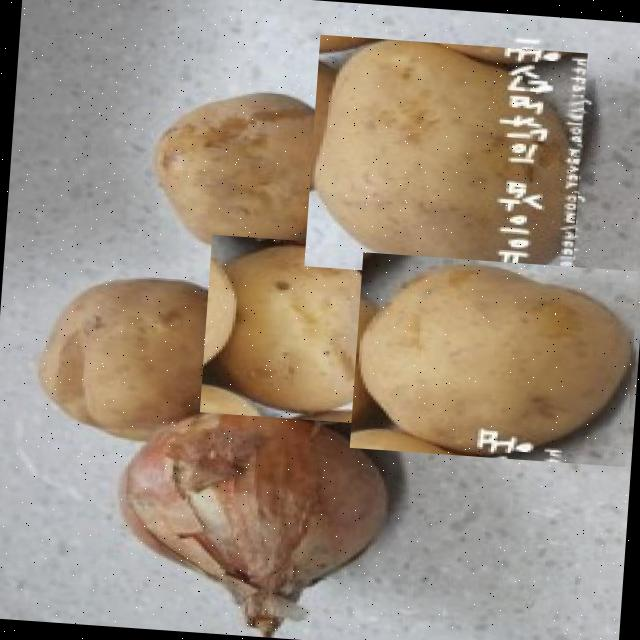Potato: (105, 392, 398, 640), (304, 34, 588, 284), (350, 250, 638, 466), (22, 261, 248, 449), (144, 79, 362, 264), (200, 234, 396, 424)
